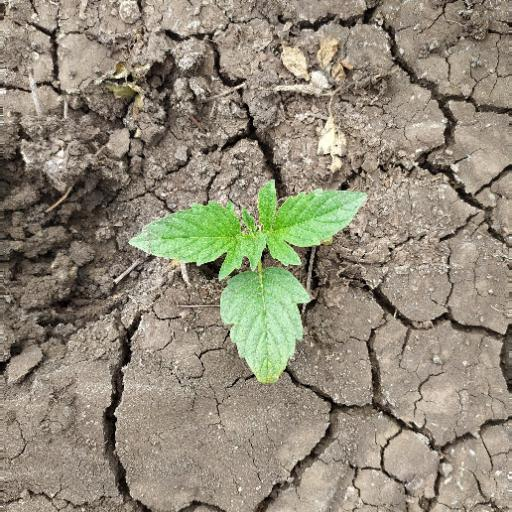crop: (121, 189, 379, 385)
